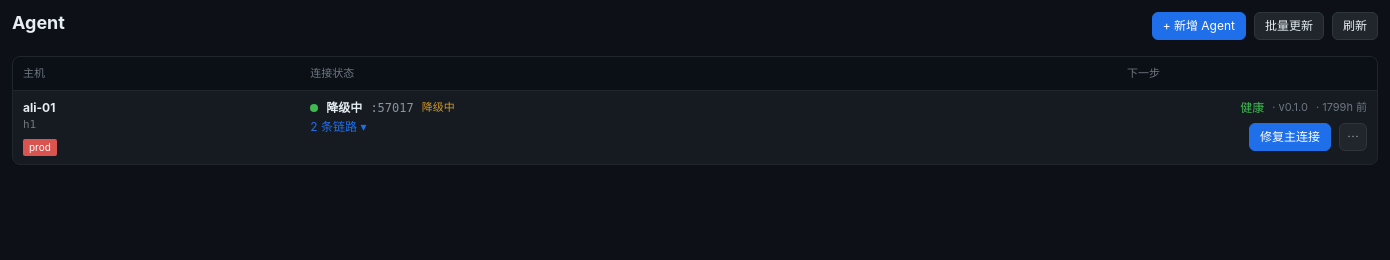
Scenario: AgentManagerTab › renders degraded route summary from nodeStore and expandable chain details
Click the button with test id "agent-route-toggle-h1": (338, 126) [310,120,366,132]
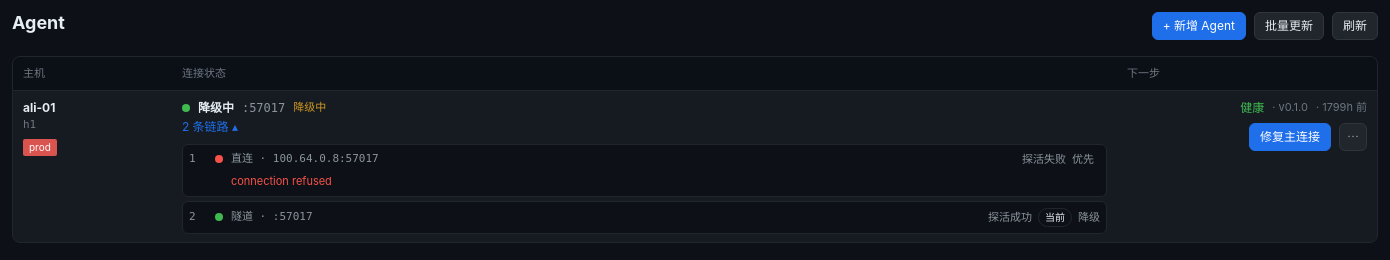
Result: the element with test id "agent-route-row-h1-0" shows "connection refused" at [231,174,332,188]
Result: the element with test id "agent-route-row-h1-0" shows "探活失败" at [1022,152,1066,166]
Result: the element with test id "agent-route-row-h1-1" shows "探活成功" at [988,210,1032,224]
